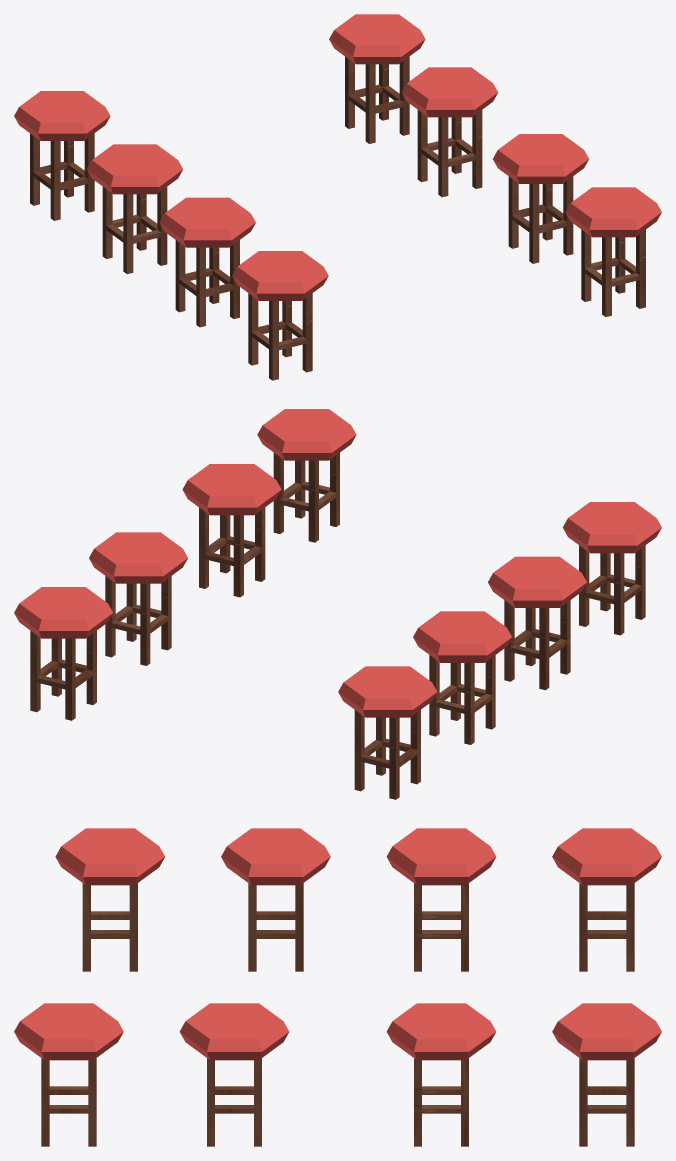
Rendered from Level_1_0_Unlocked_Grabbable.fbx.
The picture shows the model from 3 angles, top to bottom: view 1: azimuth 30°, elevation 25°; view 2: azimuth 150°, elevation 25°; view 3: azimuth 270°, elevation 25°; orthographic projection. The views are drawn at different scales.
Parts seen in each view (by area): view 1: stoolBar (×8); view 2: stoolBar (×8); view 3: stoolBar (×8).
Boxes of the visible parts, bbox=[...] form: stoolBar (×8): bbox=[14, 14, 661, 380]; stoolBar (×8): bbox=[14, 409, 661, 799]; stoolBar (×8): bbox=[14, 828, 661, 1146].
Size of the model in its own units: 12.3 by 3.04 by 15.65.
2 materials, 1 textured.
